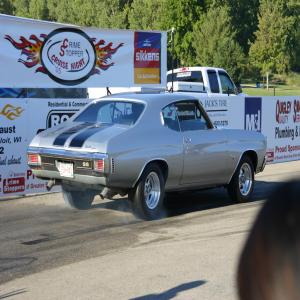Vehicle-registration-plate: (59, 162, 75, 180)
